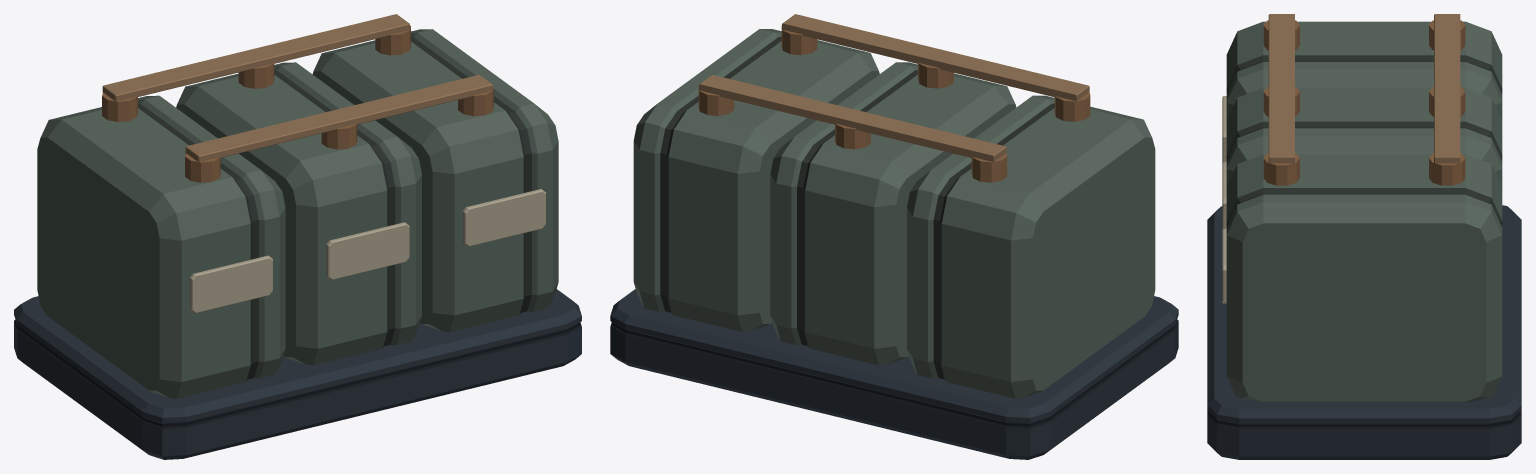
Rendered from F-14_battery_module.glb.
3 renders of one model, left to right at view 1: azimuth 30°, elevation 25°; view 2: azimuth 150°, elevation 25°; view 3: azimuth 270°, elevation 25°, orthographic.
Visible parts, largest first — view 1: F-14_battery_module; view 2: F-14_battery_module; view 3: F-14_battery_module.
Boxes of the visible parts, <box> form: F-14_battery_module: <box>14,14,581,459</box>; F-14_battery_module: <box>610,14,1178,459</box>; F-14_battery_module: <box>1207,14,1521,459</box>.
Bounding box in the file's own units: 0.91 × 0.5435 × 0.57.
